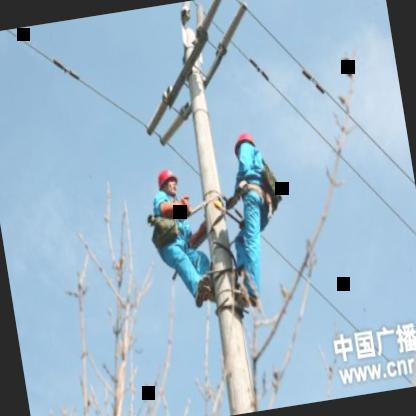helmet: (228, 126, 262, 165), (154, 166, 184, 206)
